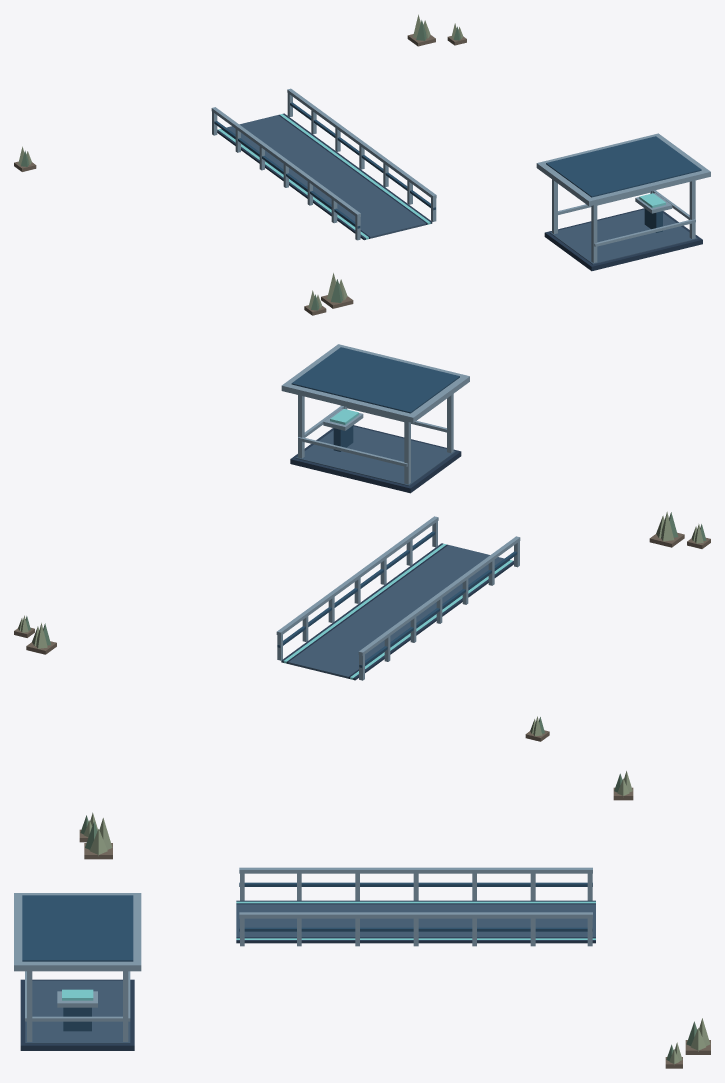
The picture shows the model from 3 angles, top to bottom: view 1: azimuth 30°, elevation 25°; view 2: azimuth 150°, elevation 25°; view 3: azimuth 270°, elevation 25°; orthographic projection. The views are drawn at different scales.
Visible parts, largest first — view 1: campus_canyon_decor; view 2: campus_canyon_decor; view 3: campus_canyon_decor.
Boxes of the visible parts, x1,y1,x2,y2 form: campus_canyon_decor: (14, 14, 710, 315); campus_canyon_decor: (14, 344, 710, 741); campus_canyon_decor: (14, 771, 710, 1068).
Bounding box in the file's own units: 21.83 × 3.32 × 23.24.
1 material, 1 textured.
